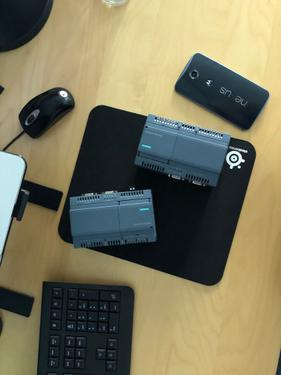device: (135, 114, 232, 188), (70, 186, 158, 249)
